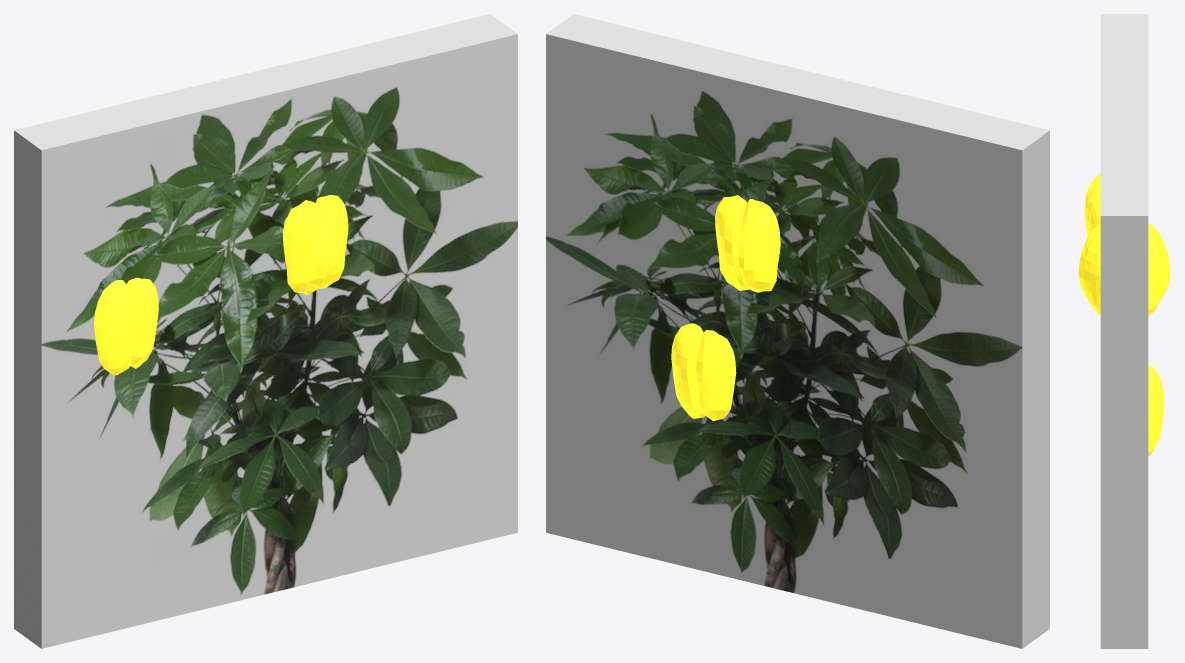
File: pepper_5.dae
3 renders of one model, left to right at view 1: azimuth 30°, elevation 25°; view 2: azimuth 150°, elevation 25°; view 3: azimuth 270°, elevation 25°, orthographic. The views are drawn at different scales.
Parts seen in each view (by area): view 1: Cube, Sphere.004, Sphere.002; view 2: Cube, Sphere.004, Sphere.001; view 3: Cube, Sphere.004, Sphere.001, Sphere.002.
Part boxes in pixels (left/top/right/bottom): Cube: left=14, top=14, right=517, bottom=648; Sphere.004: left=282, top=195, right=348, bottom=294; Sphere.002: left=94, top=277, right=158, bottom=375; Cube: left=546, top=14, right=1049, bottom=648; Sphere.004: left=715, top=195, right=780, bottom=292; Sphere.001: left=671, top=323, right=736, bottom=421; Cube: left=1100, top=14, right=1148, bottom=648; Sphere.004: left=1078, top=223, right=1170, bottom=315; Sphere.001: left=1148, top=365, right=1164, bottom=455; Sphere.002: left=1084, top=174, right=1100, bottom=235.
Size of the model in its own units: 1 by 0.1925 by 1.
3 materials, 1 textured.
